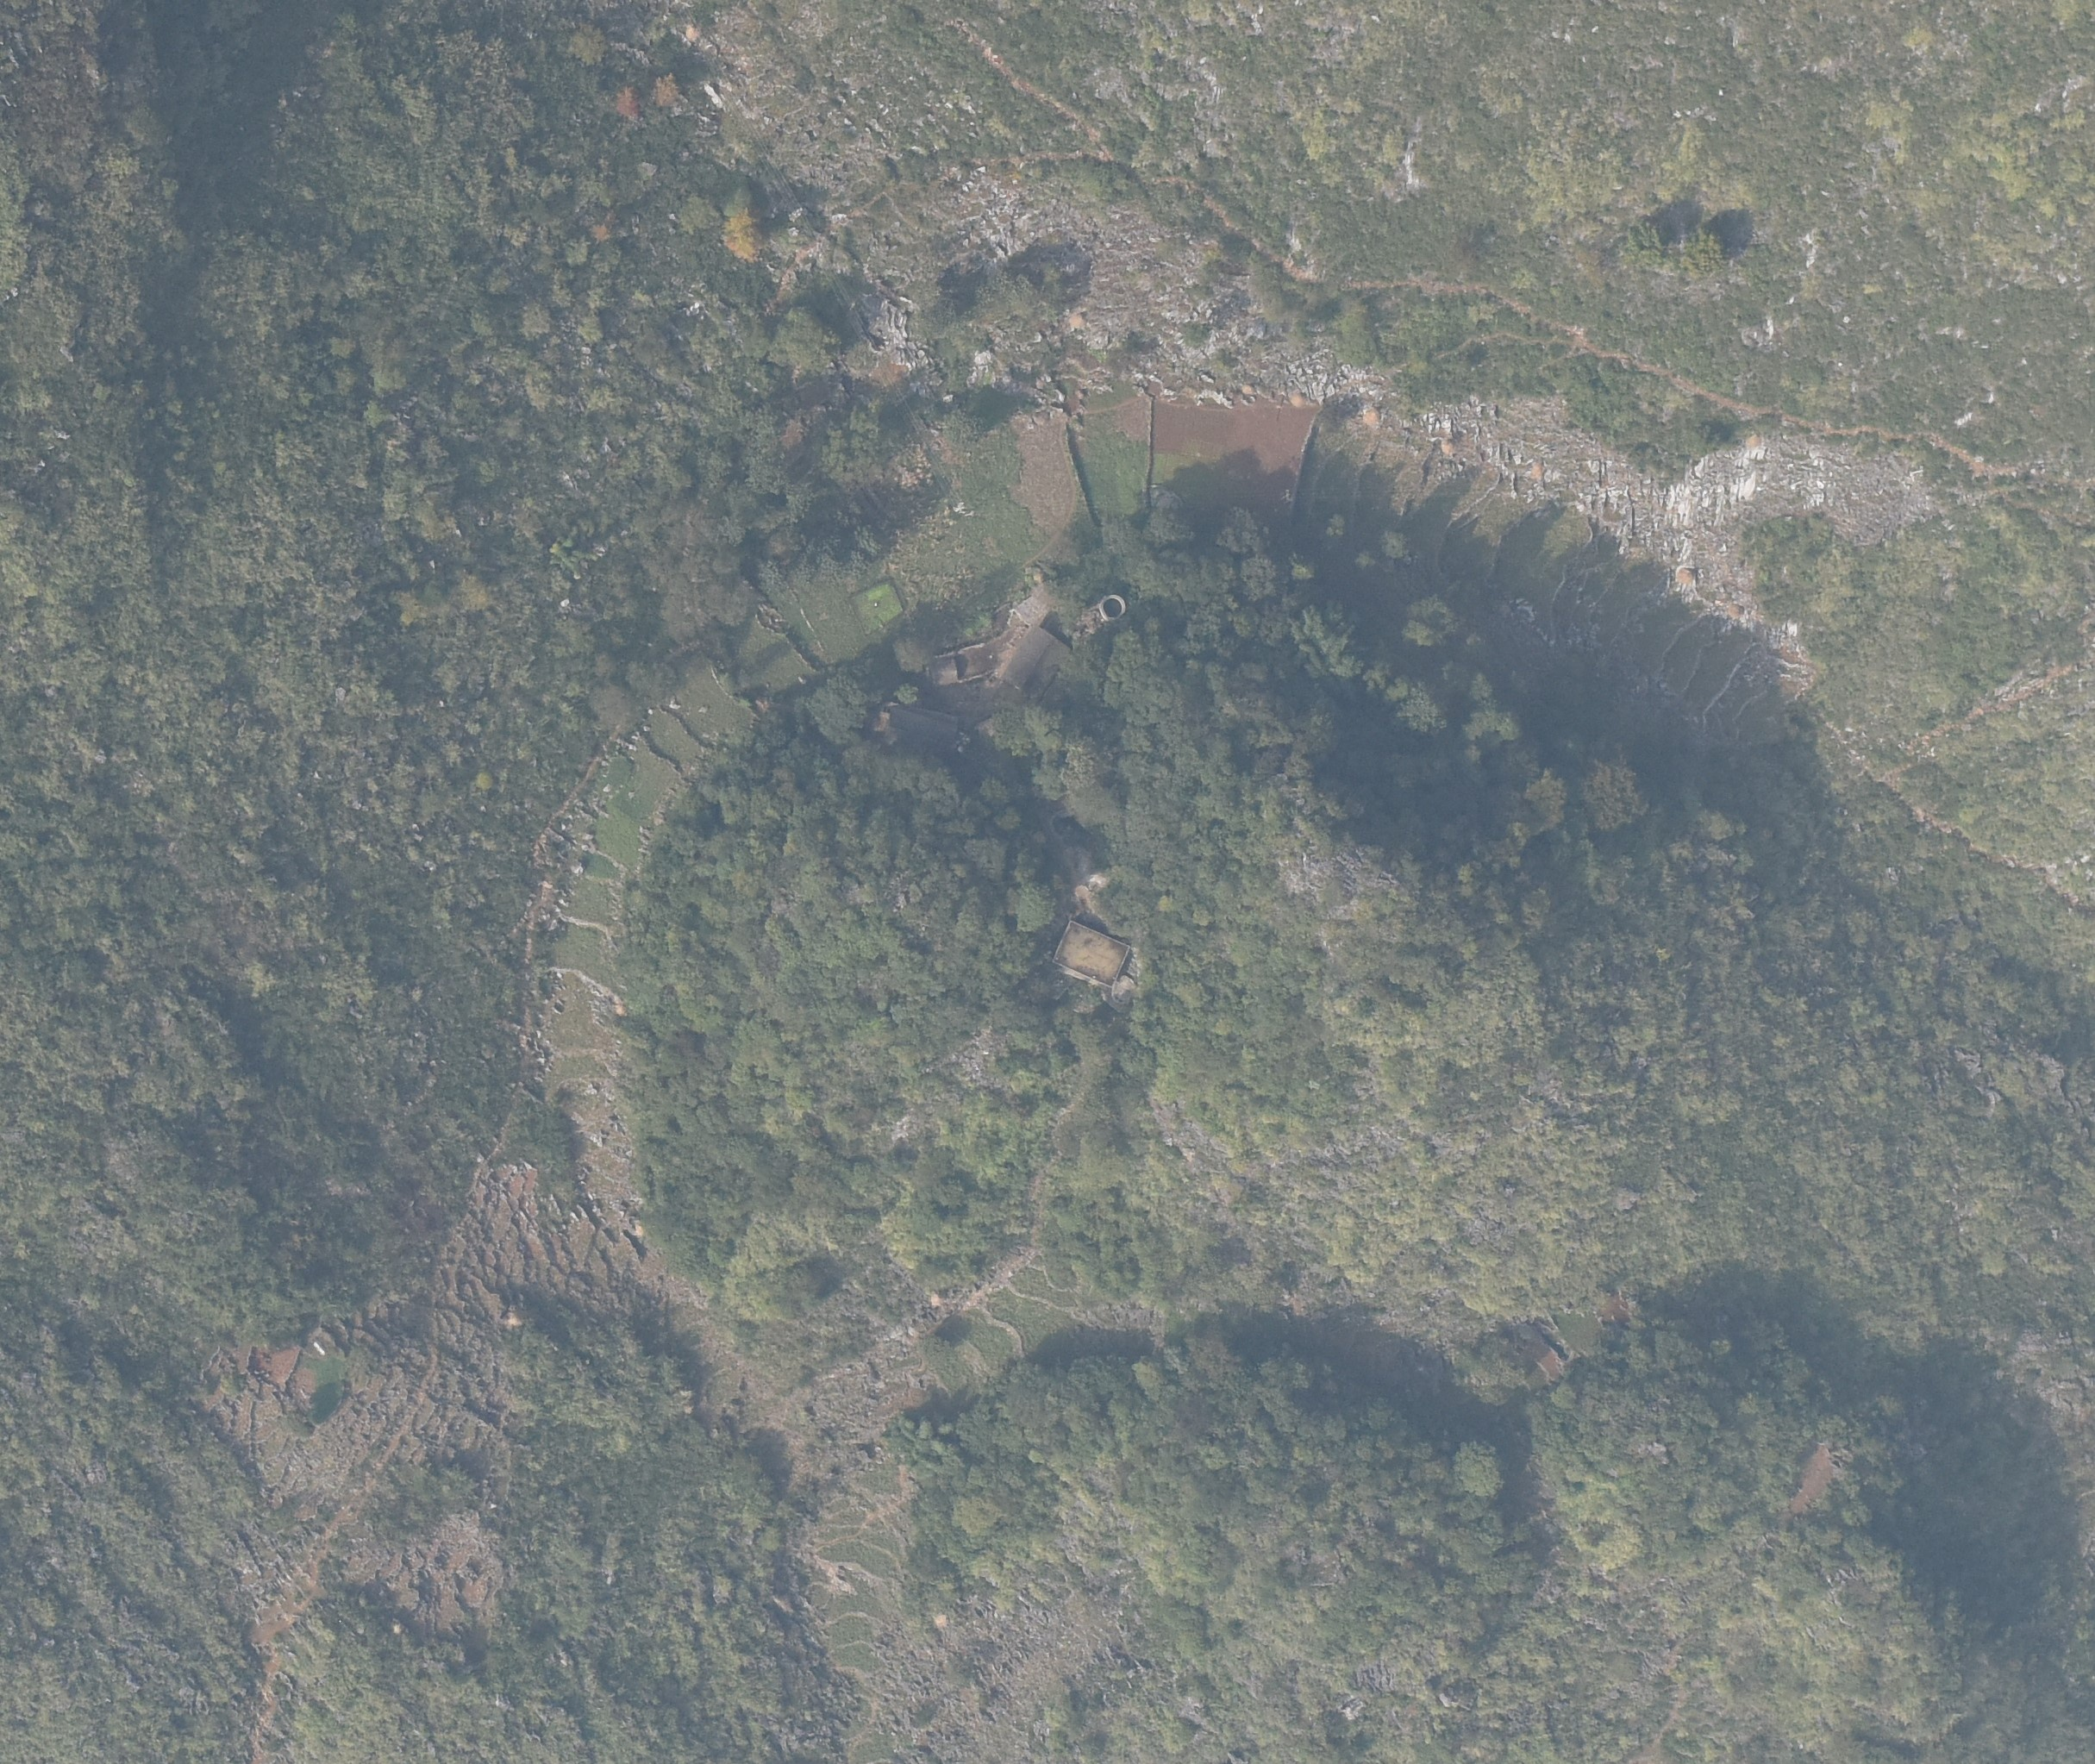building: (997, 626, 1071, 702), (1053, 921, 1129, 989), (1012, 584, 1055, 629), (928, 654, 960, 684), (788, 206, 802, 222), (953, 502, 965, 513), (965, 510, 974, 517)
cable-tower: (1277, 483, 1298, 505)
well: (1098, 593, 1129, 622)
